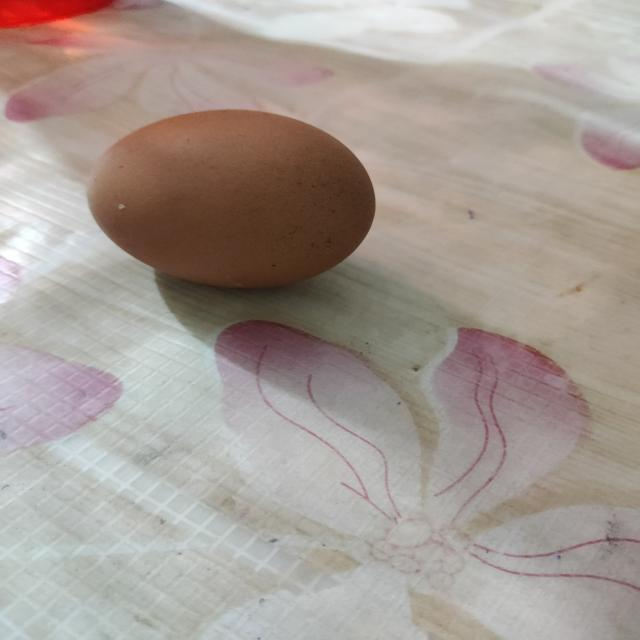egg: (82, 108, 382, 296)
